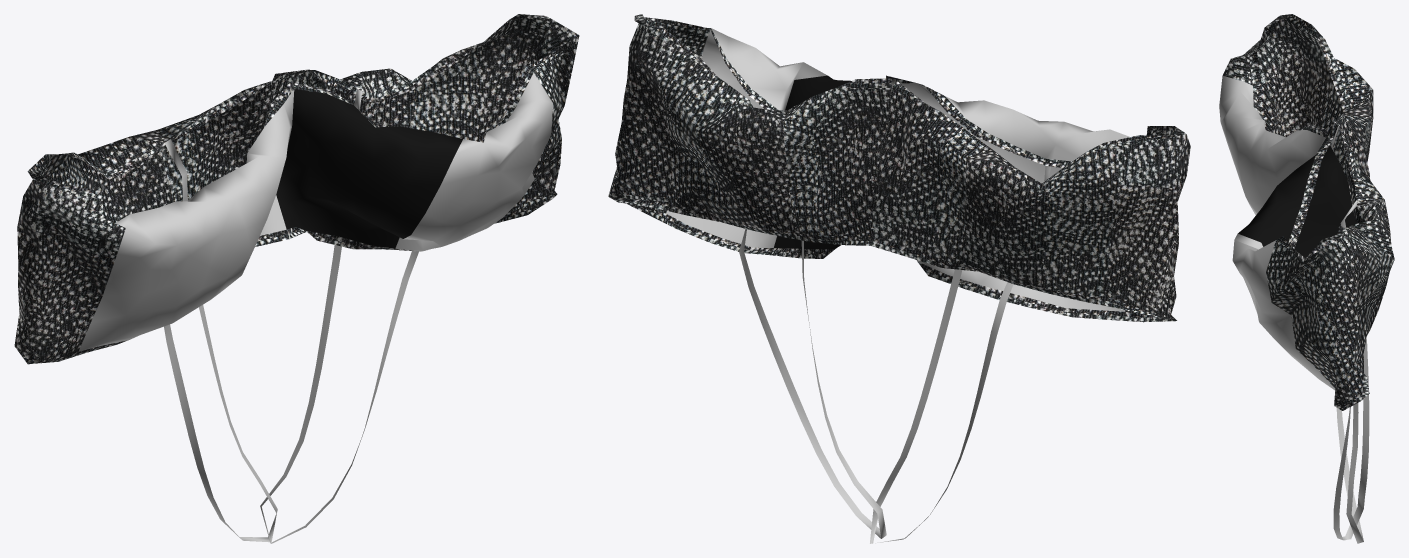
The model's file is top10.fbx.
3 renders of one model, left to right at view 1: azimuth 30°, elevation 25°; view 2: azimuth 150°, elevation 25°; view 3: azimuth 270°, elevation 25°, orthographic. The views are drawn at different scales.
Parts seen in each view (by area): view 1: top10; view 2: top10; view 3: top10.
Part boxes in pixels (bbox=[...]): top10: bbox=[14, 14, 579, 543]; top10: bbox=[608, 14, 1190, 543]; top10: bbox=[1219, 14, 1394, 543].
Bounding box in the file's own units: 325 × 264 × 99.83.
